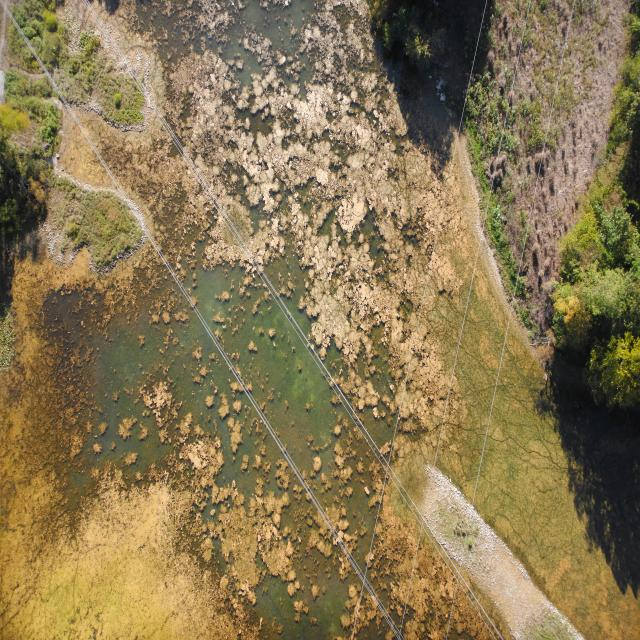Area of Interest: (549, 59, 640, 389)
